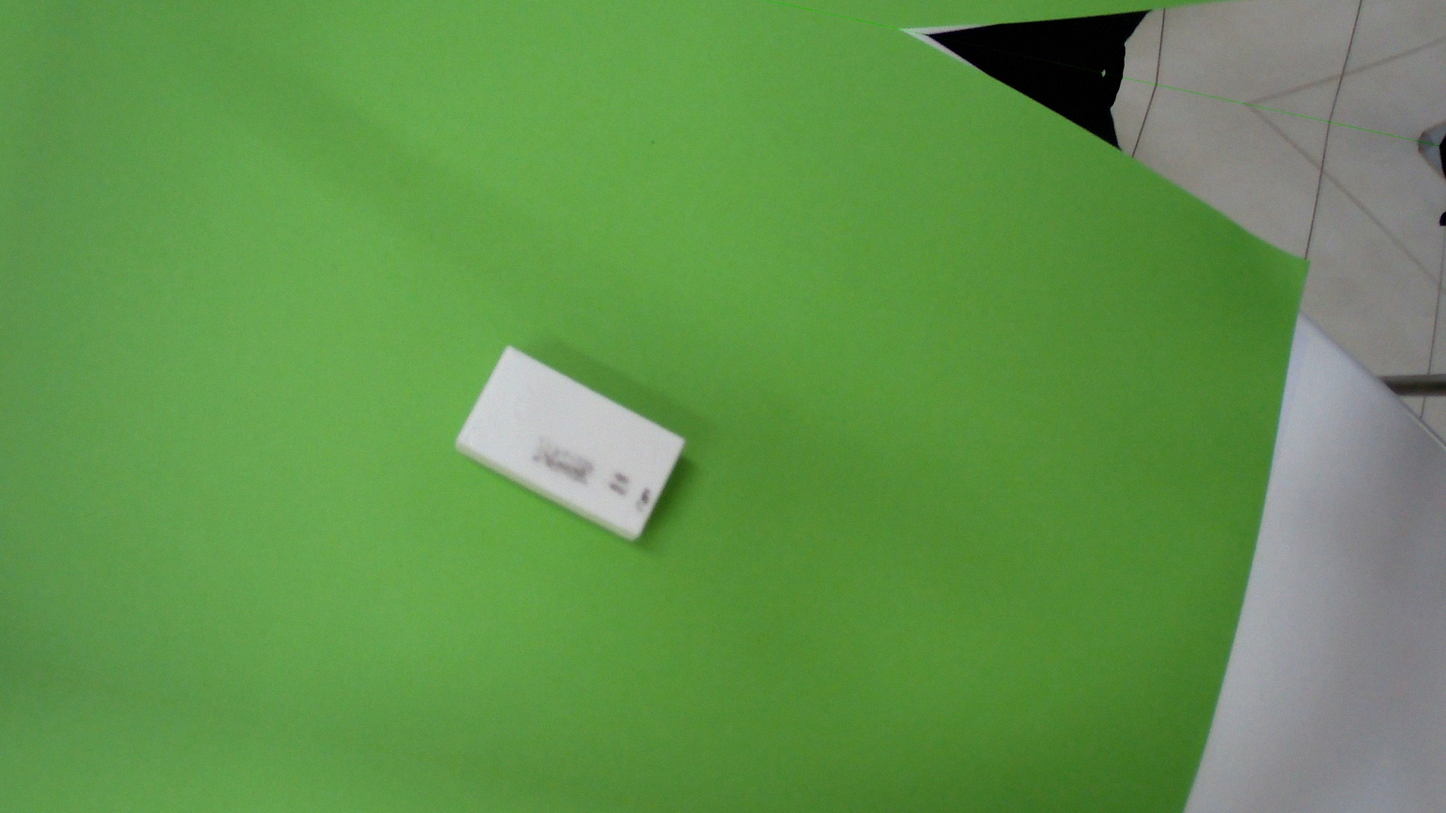gom: (441, 338, 709, 553)
